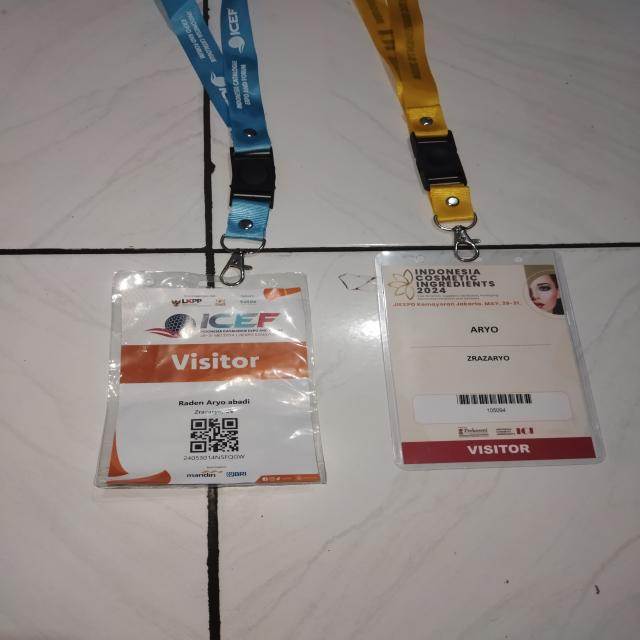ID_card: (374, 248, 606, 470), (93, 270, 326, 490)
